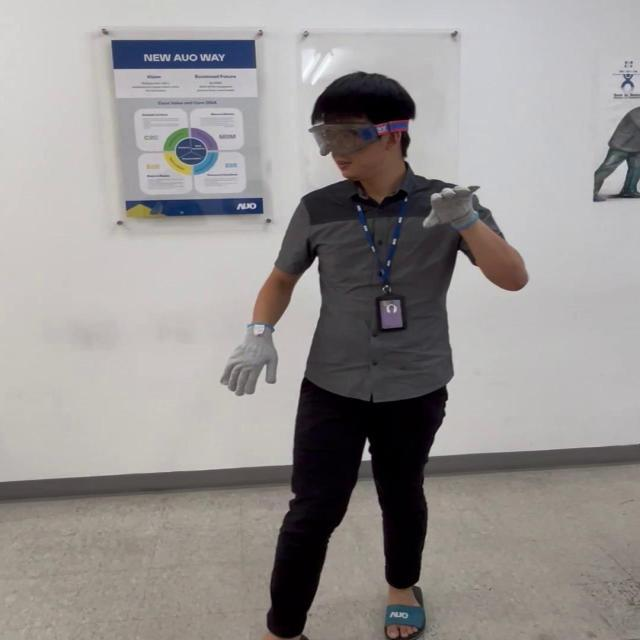gloved_hand: (216, 320, 283, 395), (417, 176, 488, 234)
